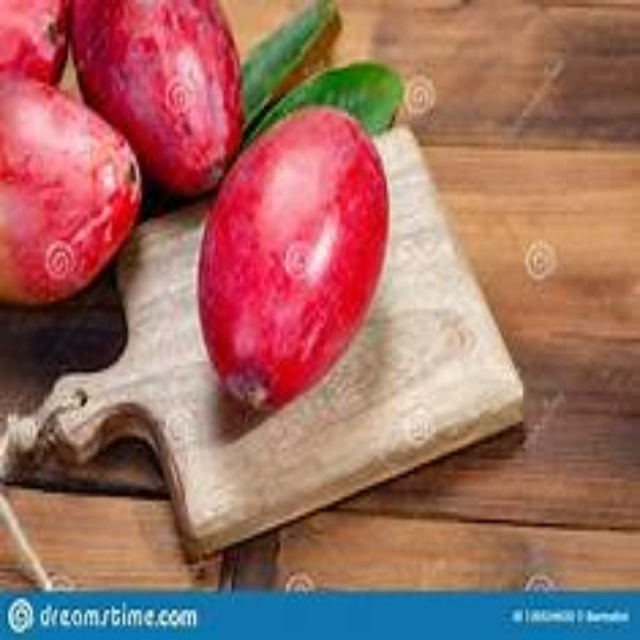mango: (190, 105, 387, 409), (72, 1, 242, 194), (2, 78, 143, 310)
